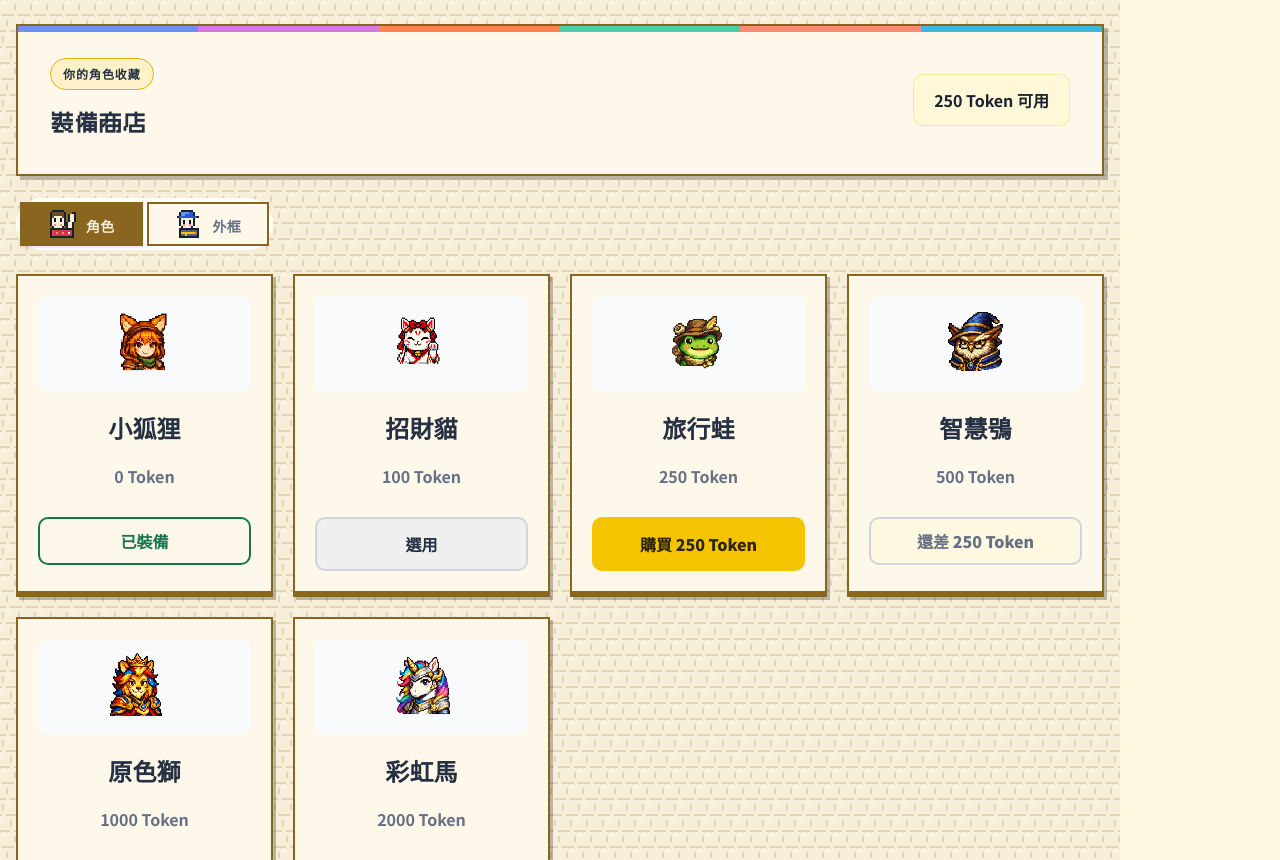
Test: ShopPage › supports cancel, Escape, confirmation, and authoritative purchase success
Click the button with aria-label "購買 旅行蛙，250 Token" at (698, 544), box [592,517,805,571]
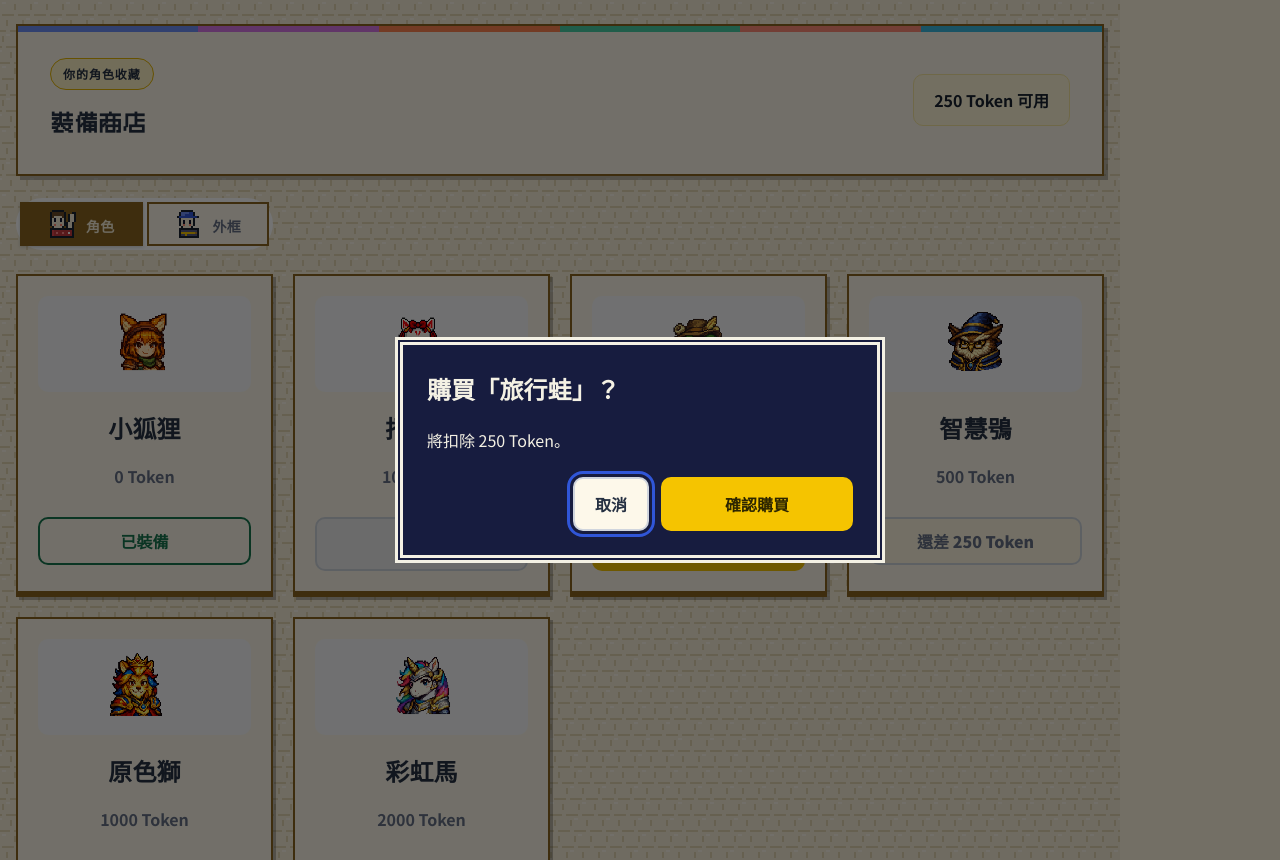
Now the dialog "購買「旅行蛙」？" is shown, box [400,342,880,558]
Now the text "將扣除 250 Token。" is shown, box [427,428,570,452]
Click the button "取消" at (611, 504), box [573,478,649,532]
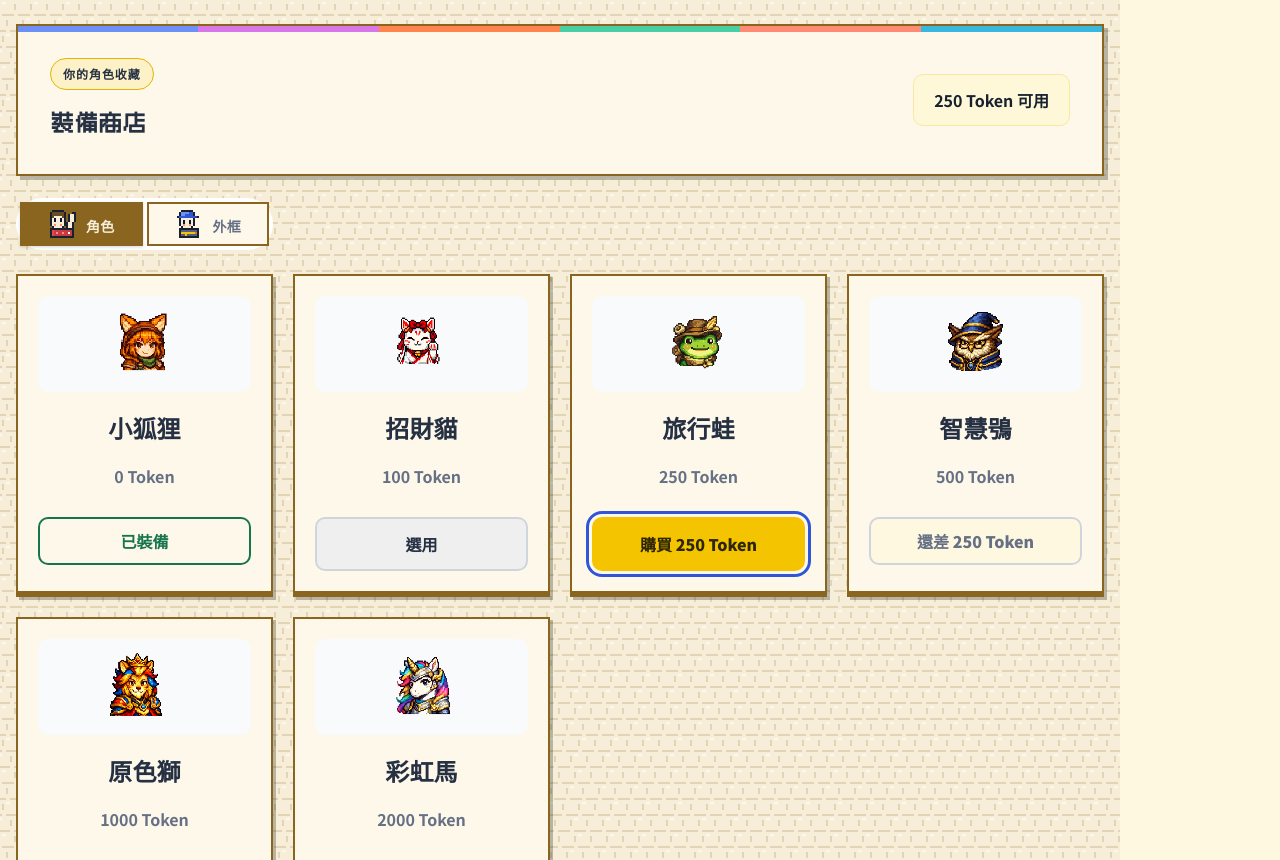
Now the dialog is gone
Click the button with aria-label "購買 旅行蛙，250 Token" at (698, 544), box [592,517,805,571]
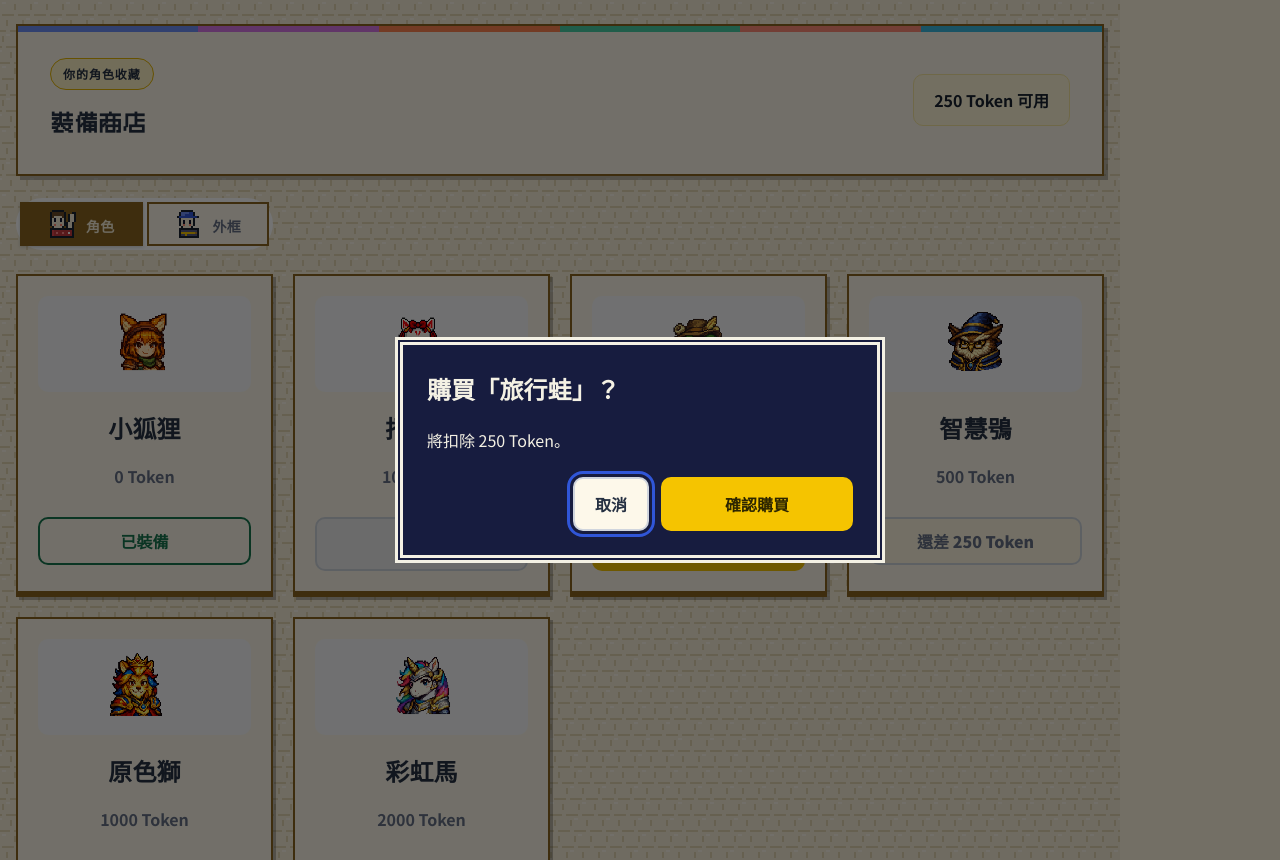
Press Escape
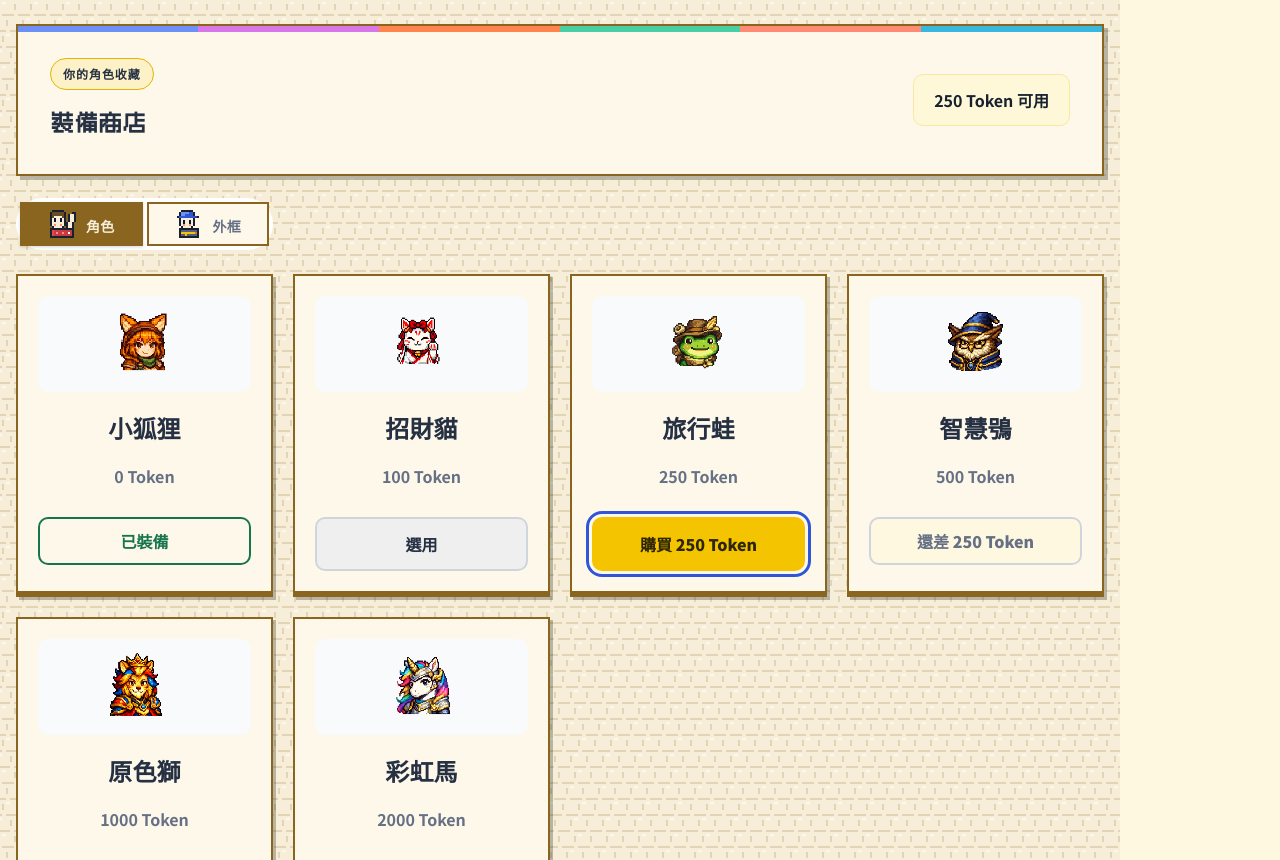
Now the dialog is gone
Click the button with aria-label "購買 旅行蛙，250 Token" at (698, 544), box [592,517,805,571]
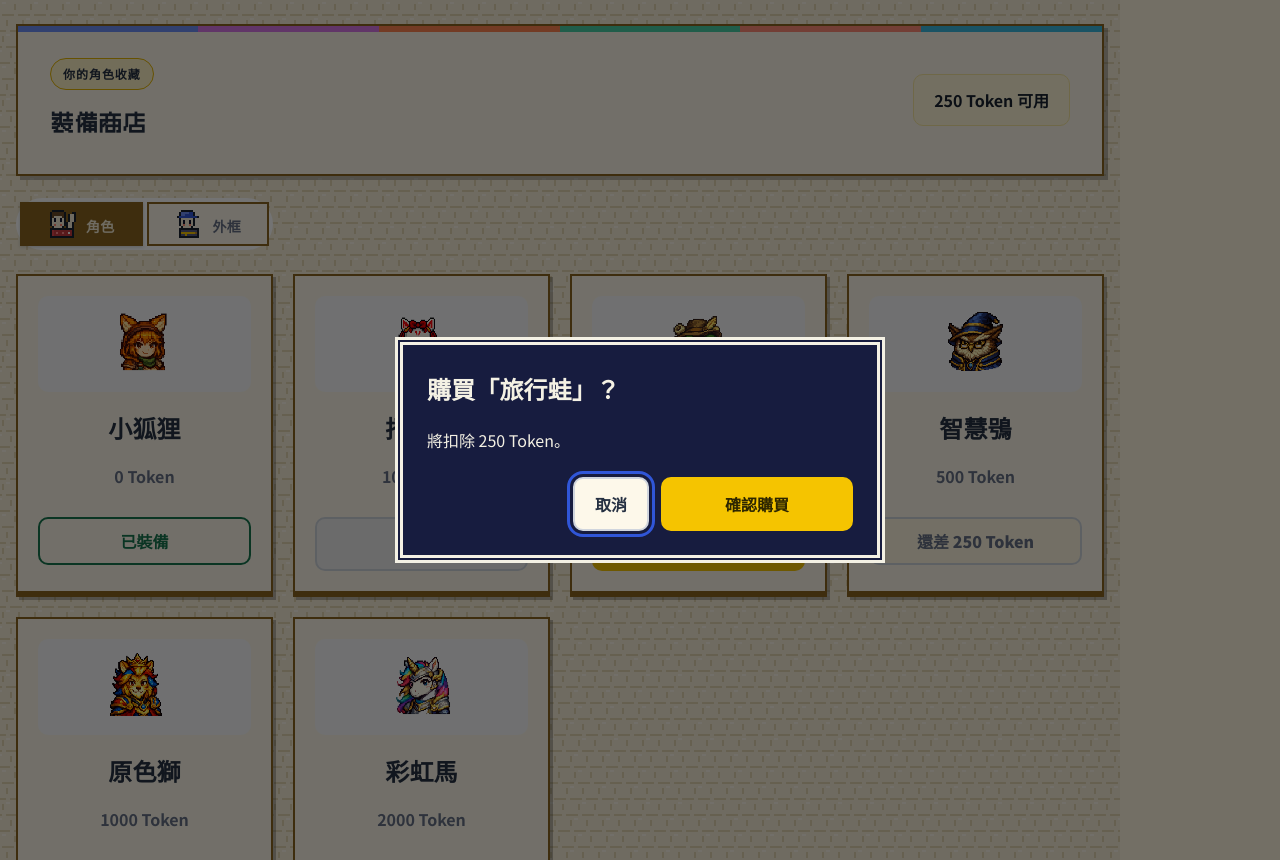
Click the button "確認購買" at (757, 504), box [661,478,853,532]
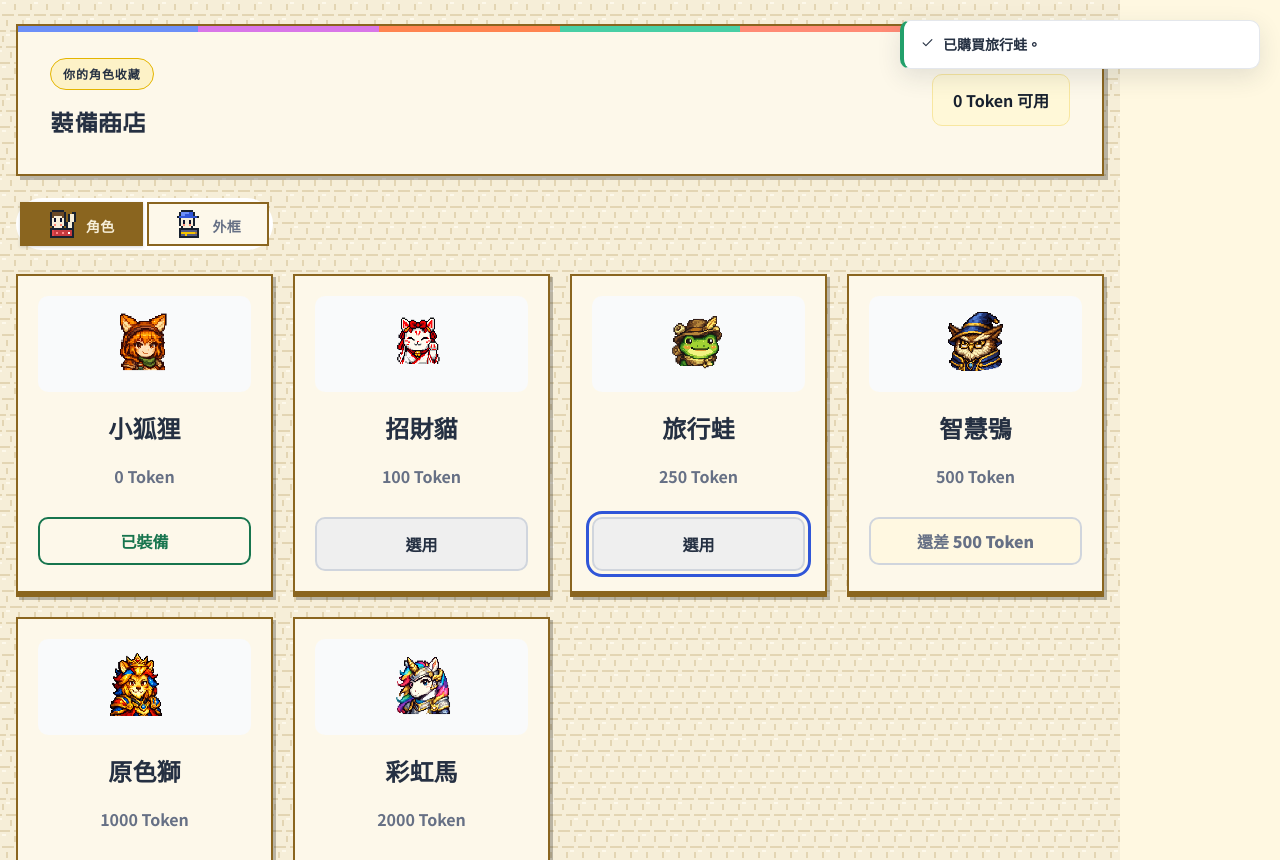
Expected: the button with aria-label "選用 旅行蛙" is enabled, [592,517,805,571]
Now the message reads "已購買旅行蛙。", box [943,34,1041,54]
